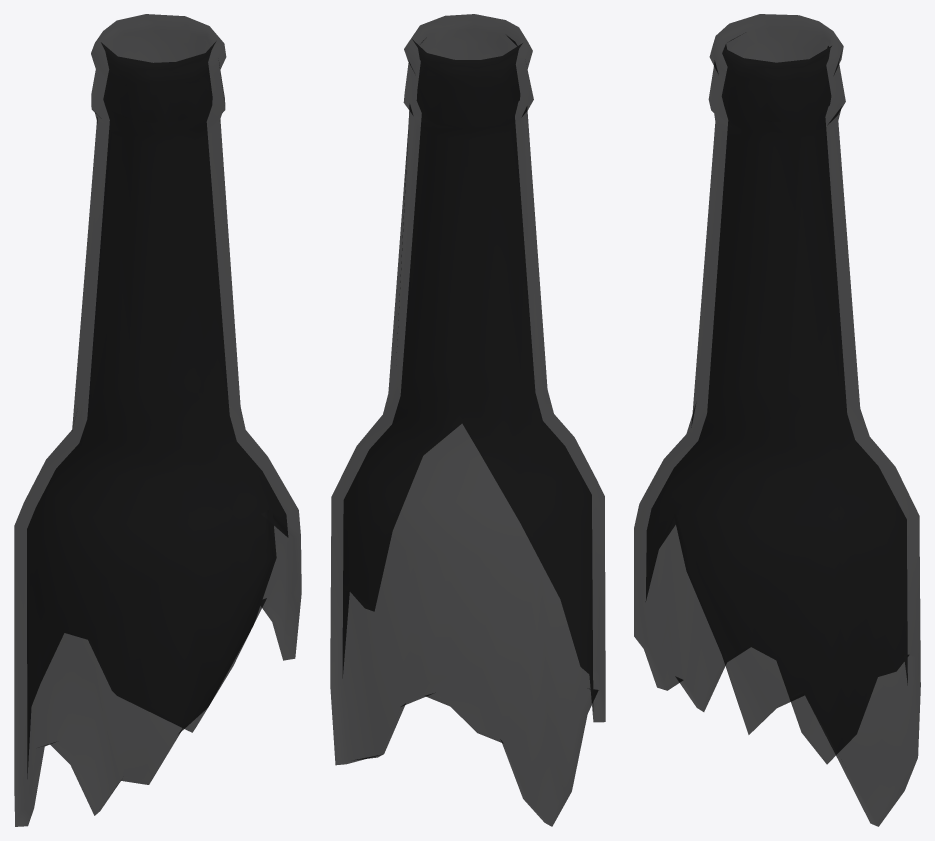
File: broken_glass_bottle_weapon_low_poly_final.glb
3 views of the same model, side by side, from view 1: azimuth 30°, elevation 25°; view 2: azimuth 150°, elevation 25°; view 3: azimuth 270°, elevation 25° (orthographic). The views are drawn at different scales.
Parts seen in each view (by area): view 1: BottleOpener_LOW.SOLID; view 2: BottleOpener_LOW.SOLID; view 3: BottleOpener_LOW.SOLID.
Part boxes in pixels (x1=…): BottleOpener_LOW.SOLID: x1=14, y1=14, x2=301, y2=826; BottleOpener_LOW.SOLID: x1=330, y1=14, x2=605, y2=826; BottleOpener_LOW.SOLID: x1=634, y1=14, x2=920, y2=826.
Bounding box in the file's own units: 131 × 390 × 130.
Materials: 1 (1 with a texture image).
